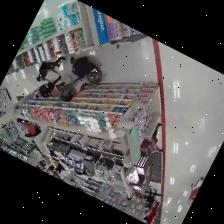person: (52, 76, 90, 100), (141, 123, 163, 156), (37, 57, 65, 81), (36, 76, 65, 97), (71, 56, 97, 76), (146, 188, 157, 208)
